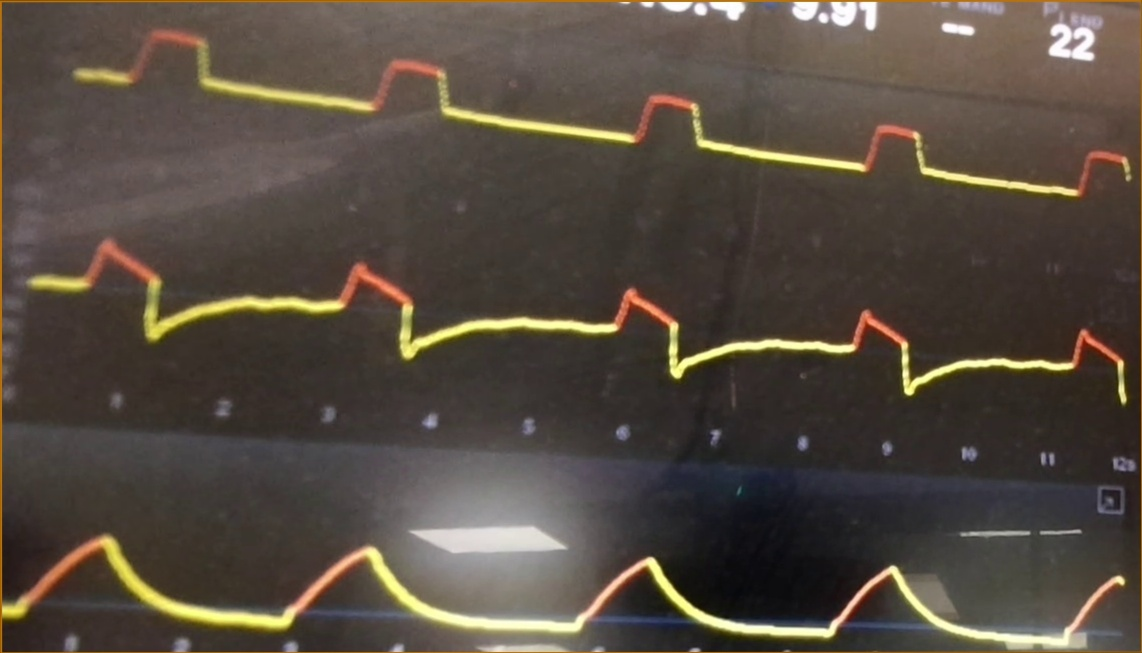Normal Flow: (23, 226, 1125, 405)
Normal Volume: (5, 503, 1125, 648)
